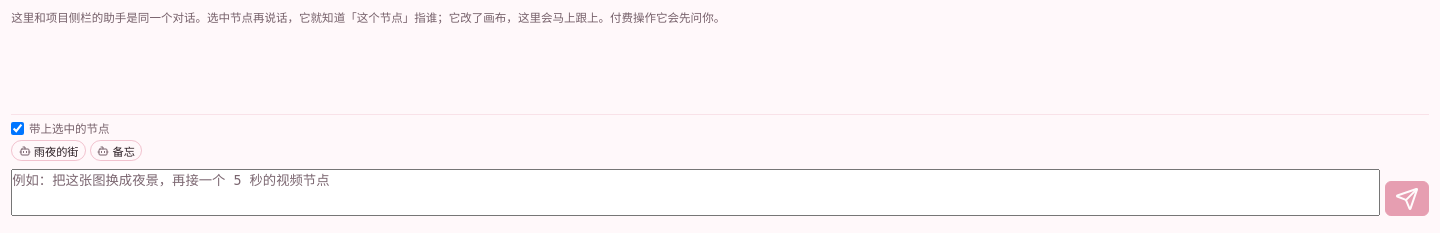
Scenario: the assistant inside the canvas › sends the board alone when the selection is detached
Click the checkbox labelled "带上选中的节点" at (18, 128), box [11,122,24,135]
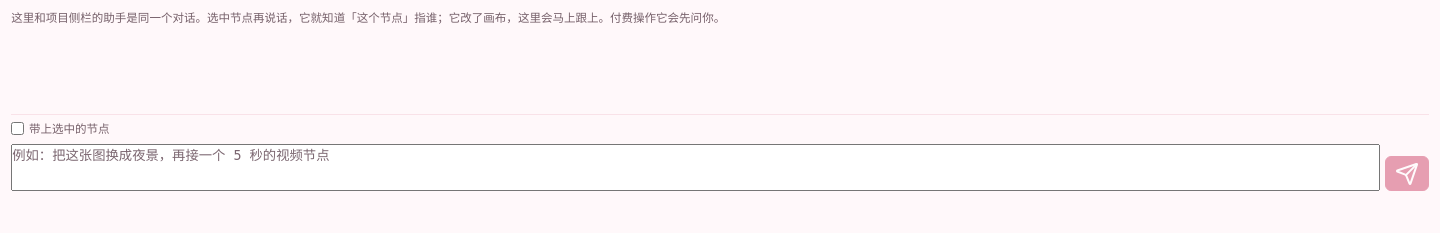
Result: the list "随消息带上的节点" is gone
Type "画布上现在有什么" into the text box named "对助手说" at (695, 168), box [11,144,1380,191]
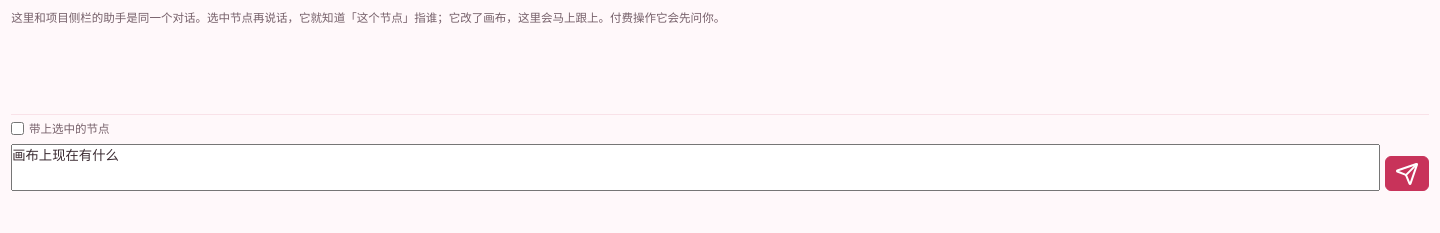
Click the button named "发给助手" at (1407, 174), box [1385,156,1429,191]
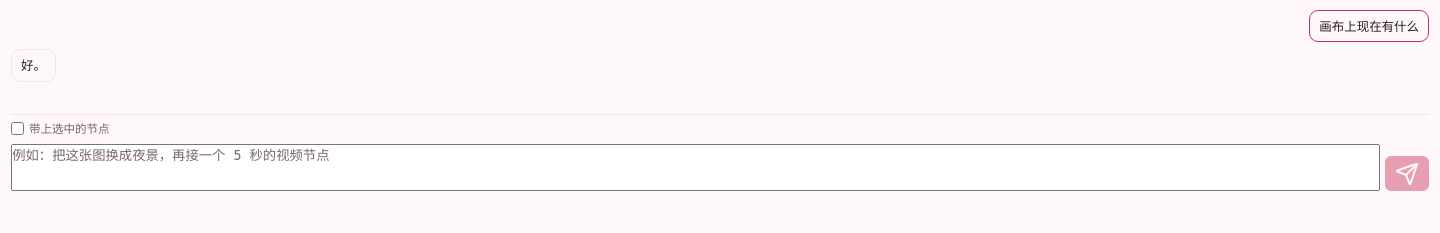
Result: the text "好。" is shown at [21,56,46,74]
